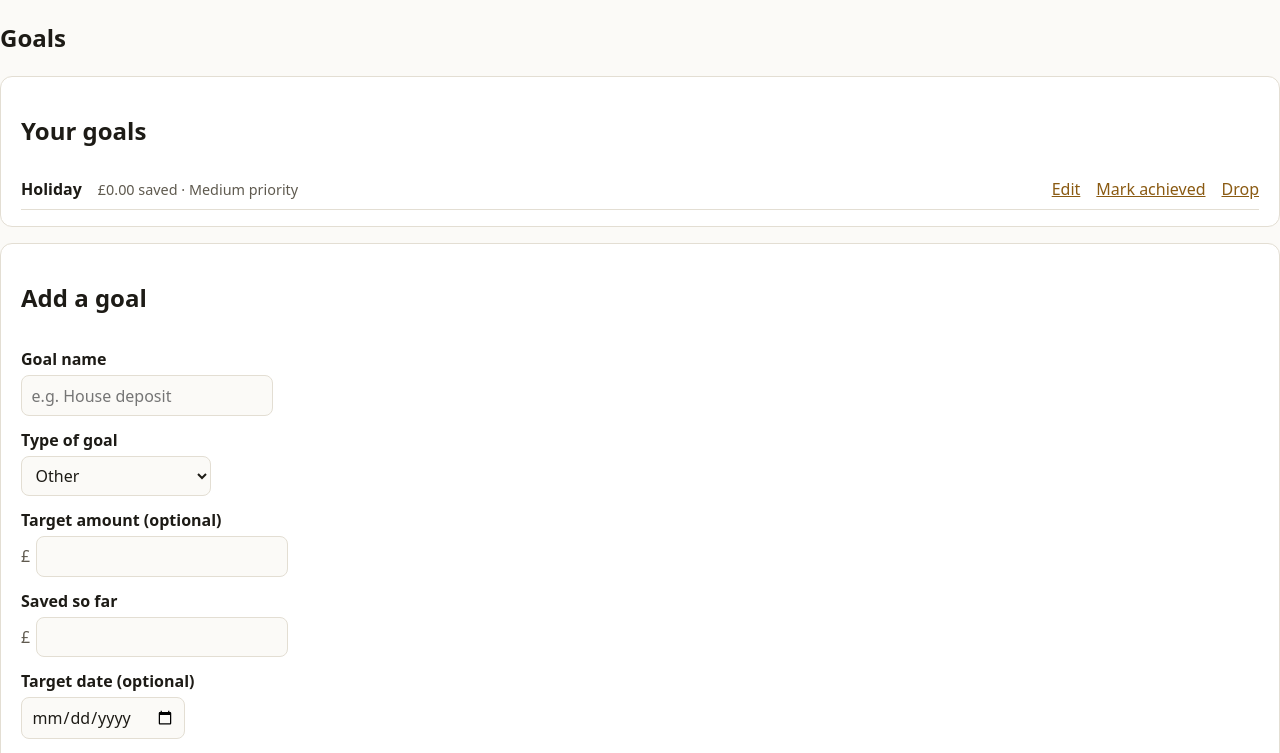
it: goal buttons are named after their visible labels, and a stale edit restarts from the stored goal
Expected: the button with aria-label "Mark achieved: Holiday" reads "Mark achieved", [1096,177,1206,201]
Click the button with aria-label "Edit Holiday".
click(1066, 189)  # box [1052,177,1080,201]
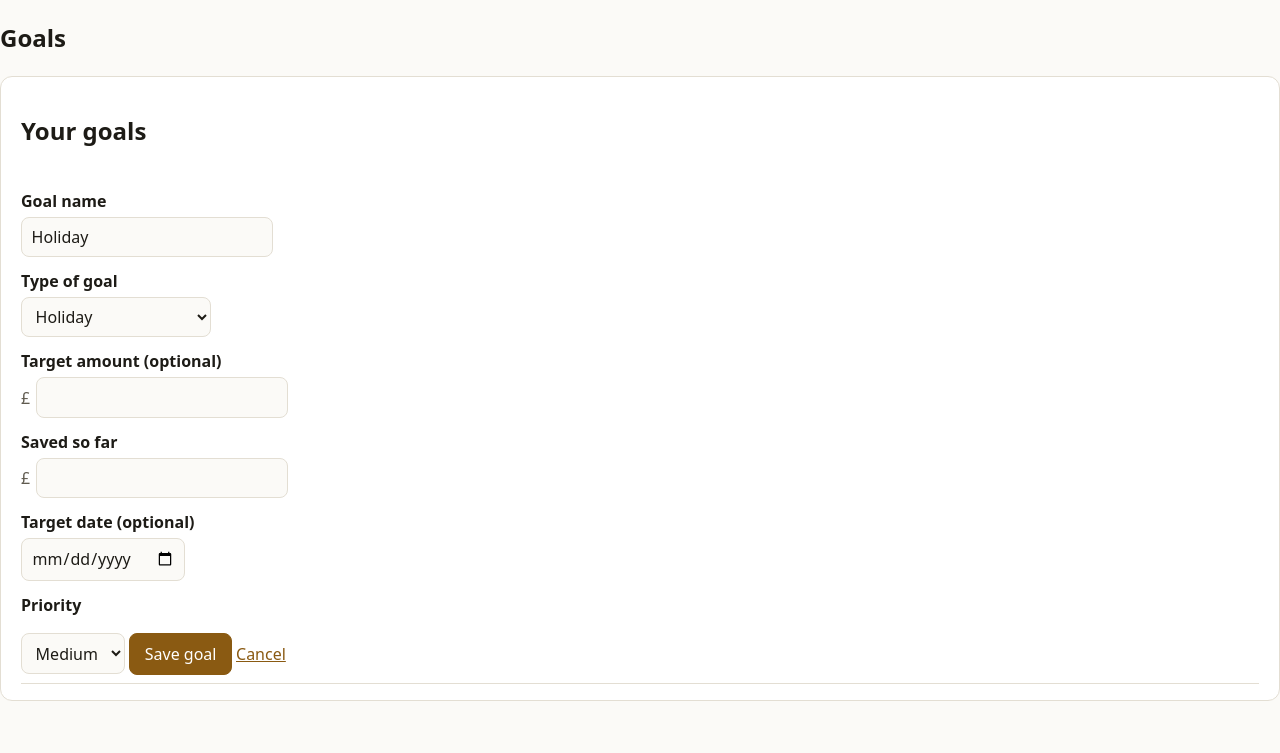
Type "100" into the field labelled "Saved so far".
click(162, 478); type("100")  # box [36,458,288,498]
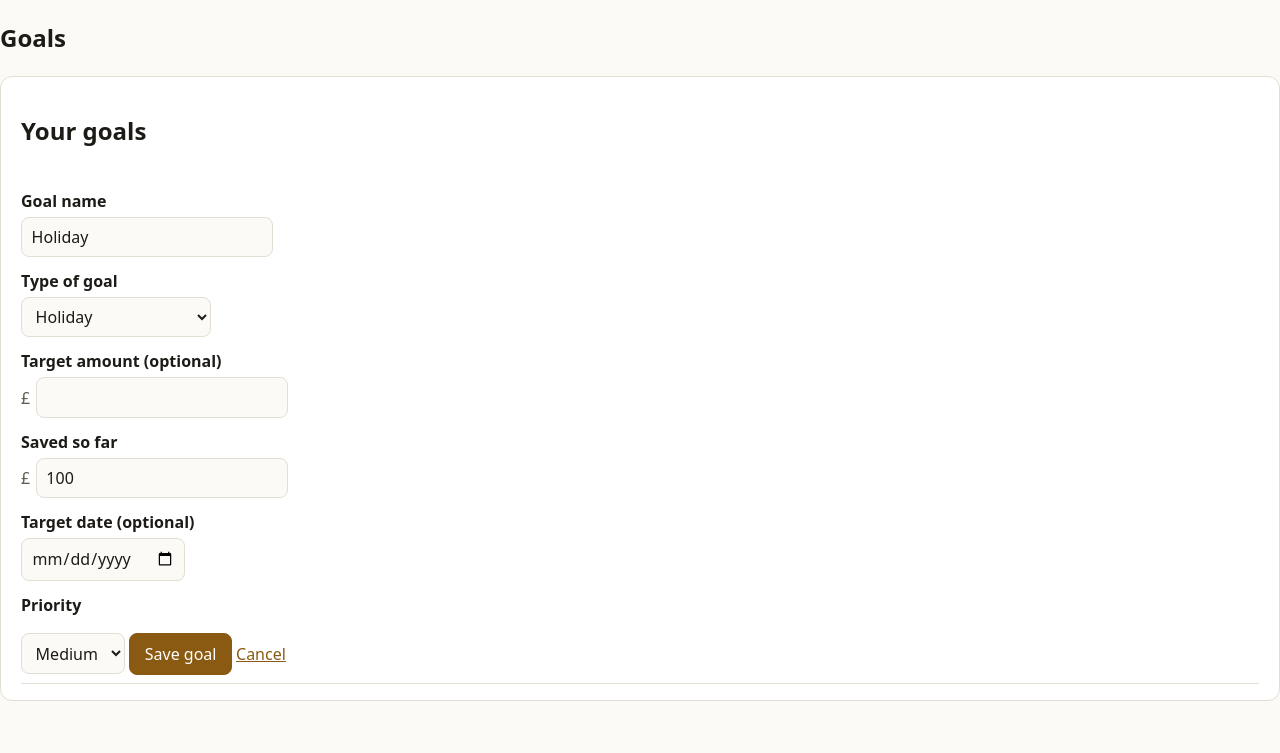
Click the button "Save goal".
click(181, 654)  # box [129,632,232,674]
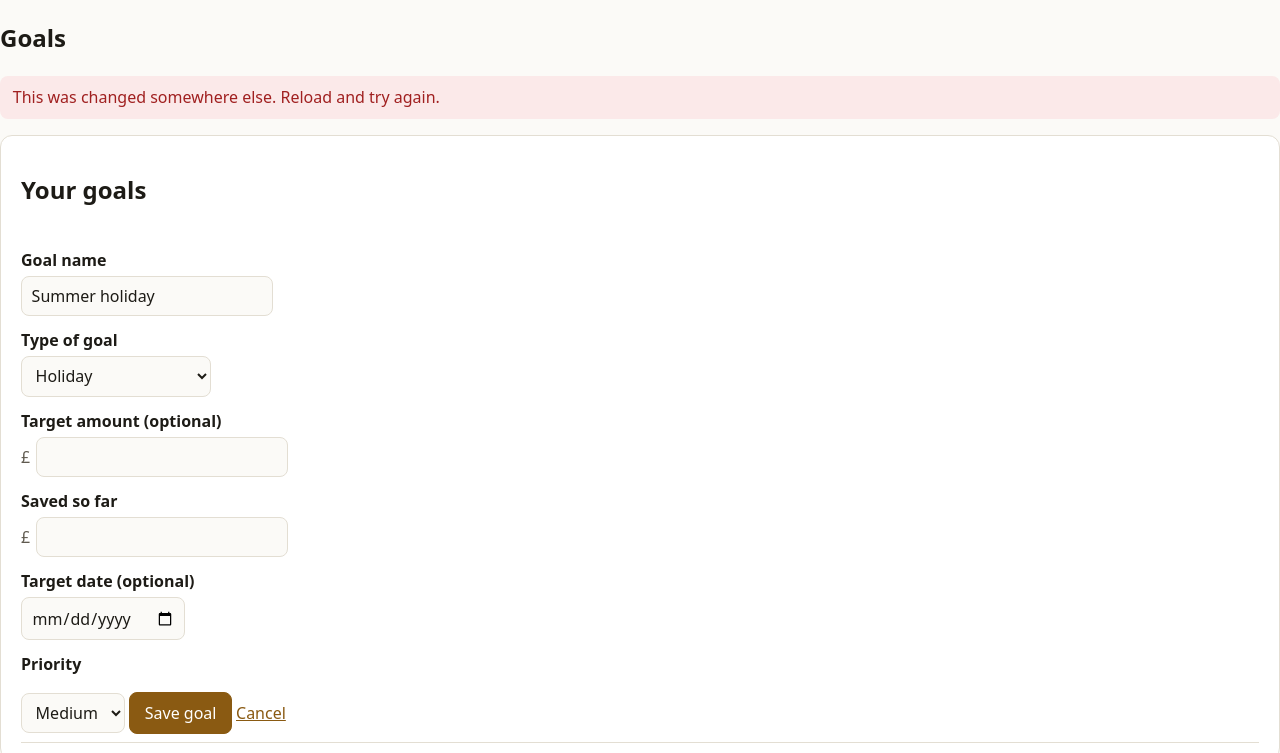
Expected: the text "This was changed somewhere else. Reload and try again." is shown, [0,76,1279,119]
Expected: the field labelled "Goal name" holds "Summer holiday", [21,276,273,316]
Type "100" into the field labelled "Saved so far".
click(162, 537); type("100")  # box [36,517,288,557]
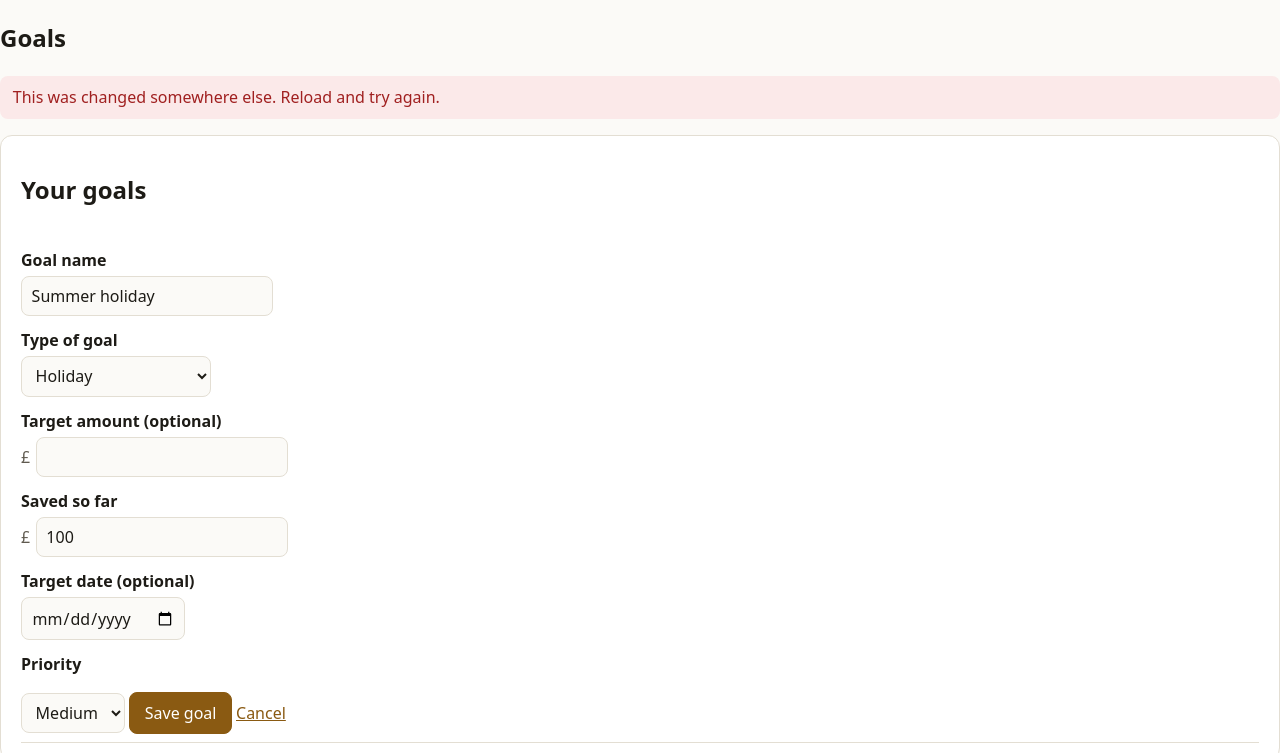
Click the button "Save goal".
click(181, 713)  # box [129,692,232,734]
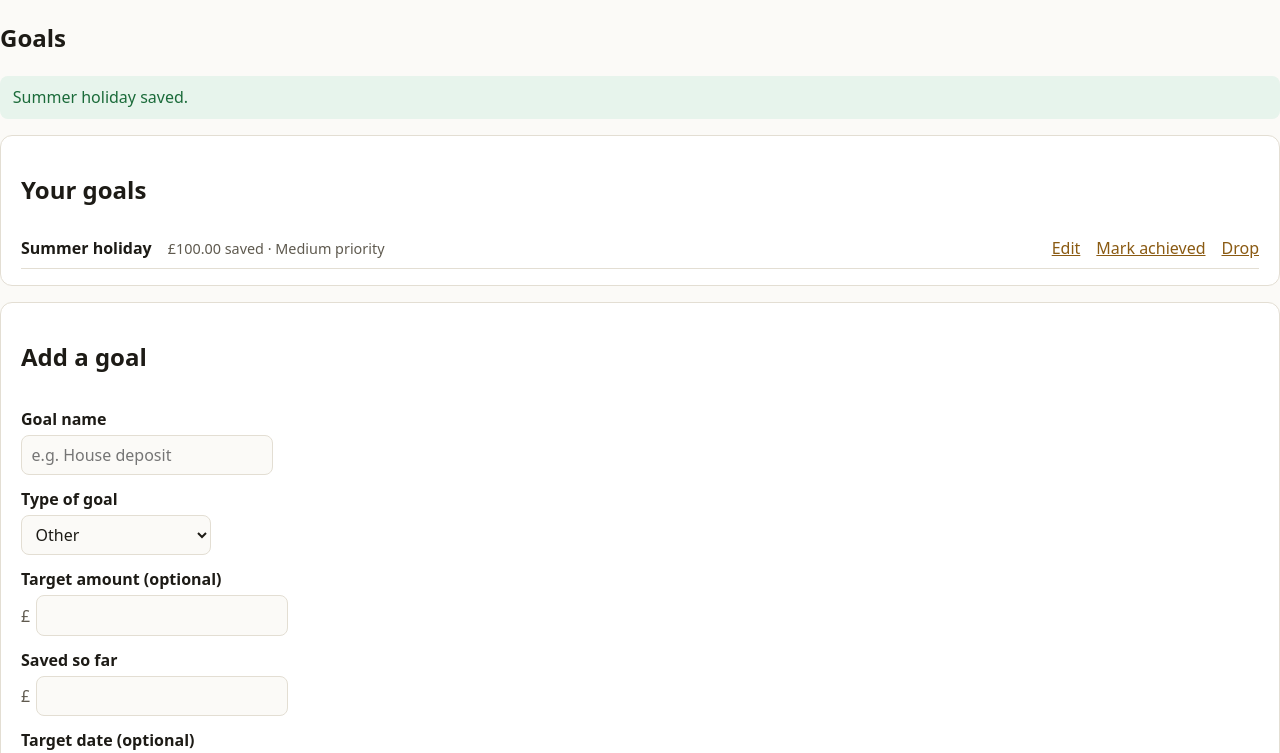
Expected: the text "Summer holiday saved." is shown, [0,76,1279,119]
